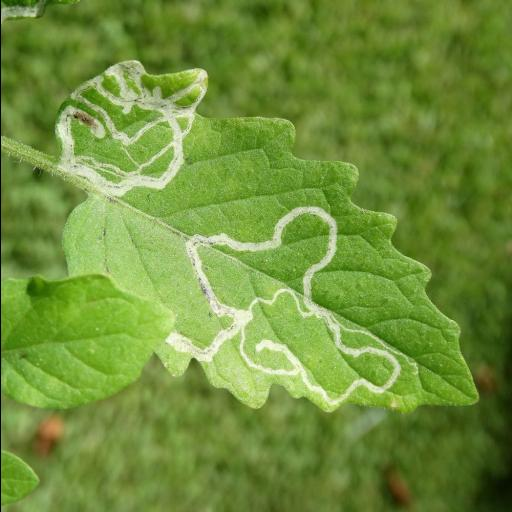disease_tomato: (54, 56, 482, 412)
